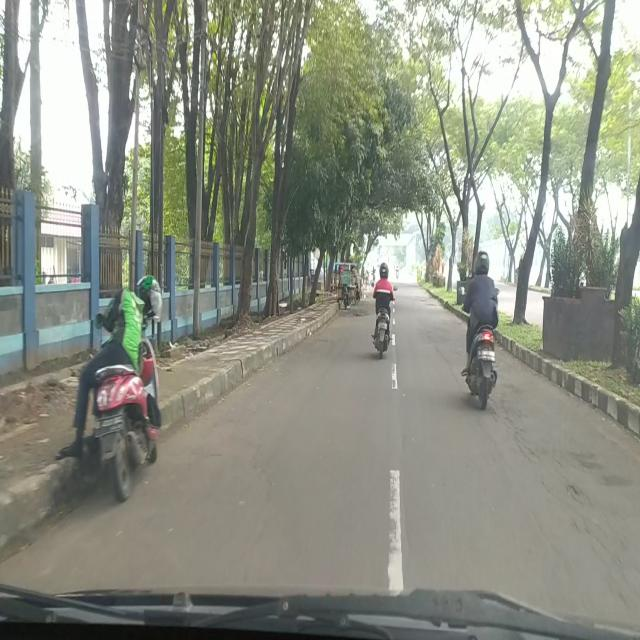Drain Hole: (493, 408, 640, 596)
